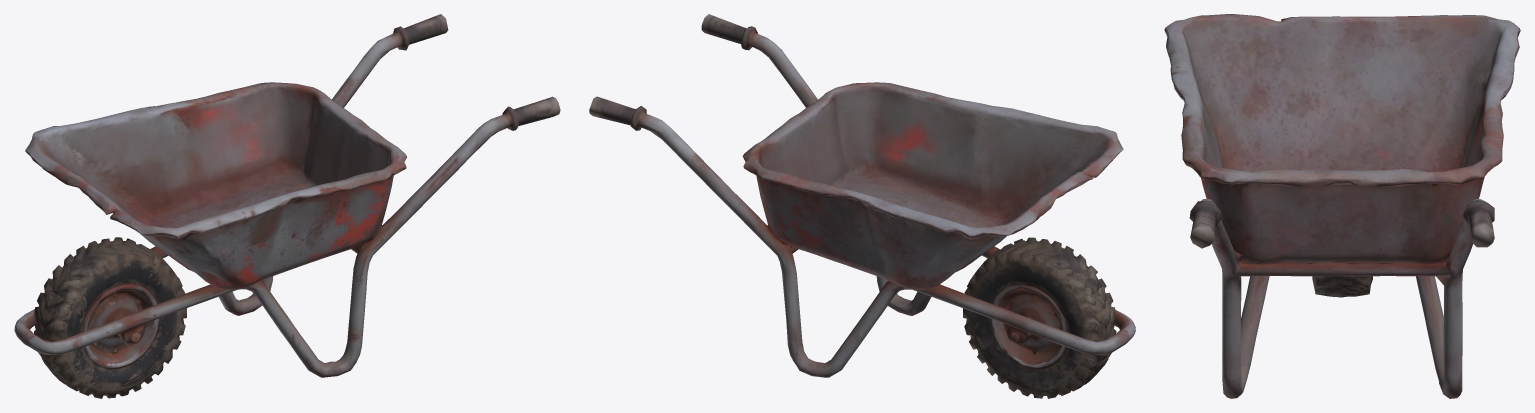
File: wheelbarrow.glb
3 renders of one model, left to right at view 1: azimuth 30°, elevation 25°; view 2: azimuth 150°, elevation 25°; view 3: azimuth 270°, elevation 25°, orthographic. The views are drawn at different scales.
Visible parts, largest first — view 1: tripo_node_d7aca908-dc26-47c6-ab34-de6b1551cb0c; view 2: tripo_node_d7aca908-dc26-47c6-ab34-de6b1551cb0c; view 3: tripo_node_d7aca908-dc26-47c6-ab34-de6b1551cb0c.
Part boxes in pixels (x1=…): tripo_node_d7aca908-dc26-47c6-ab34-de6b1551cb0c: x1=14, y1=14, x2=560, y2=398; tripo_node_d7aca908-dc26-47c6-ab34-de6b1551cb0c: x1=589, y1=14, x2=1135, y2=398; tripo_node_d7aca908-dc26-47c6-ab34-de6b1551cb0c: x1=1164, y1=14, x2=1520, y2=398.
Bounding box in the file's own units: 1 × 0.4816 × 0.5208.
Materials: 1 (1 with a texture image).
